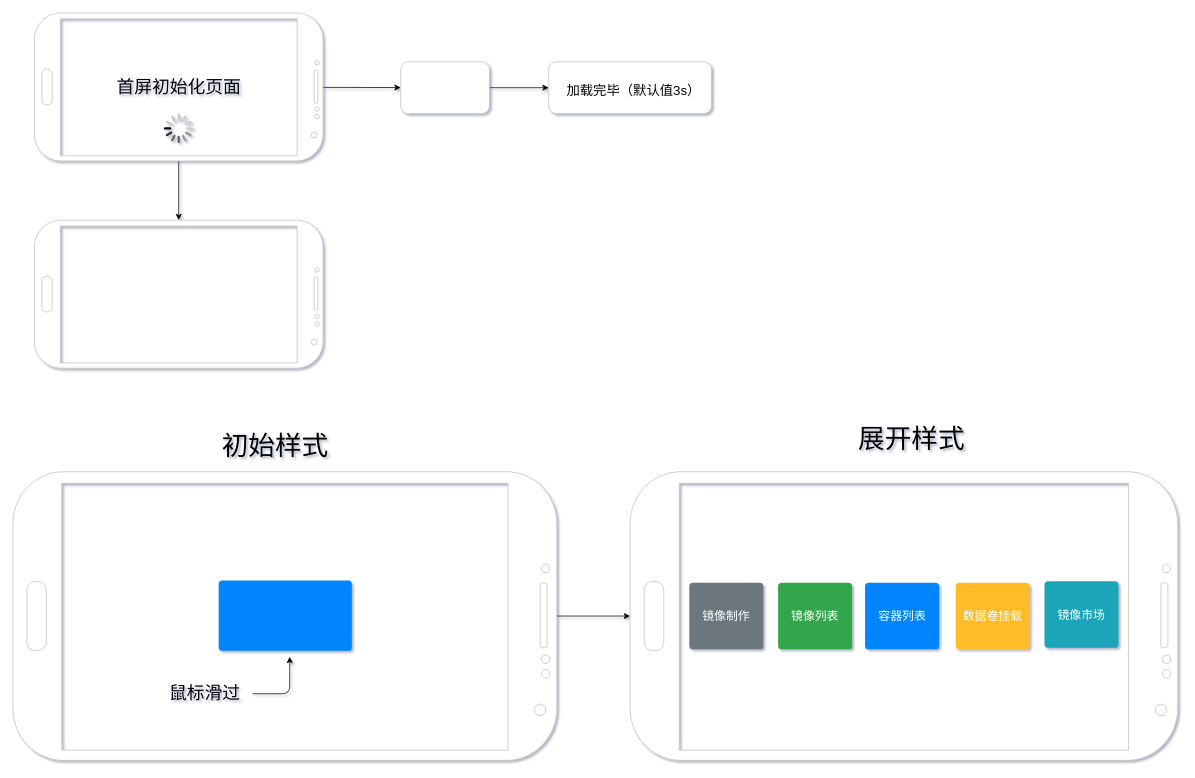
Image size: 1195x778. Some labels were removed from this diagram. The centre of each missing label's shape, as x and y in pixels:
SVG动画: point 445,87
开始: point 285,615
首页-->跳转功能页面: point 178,293
